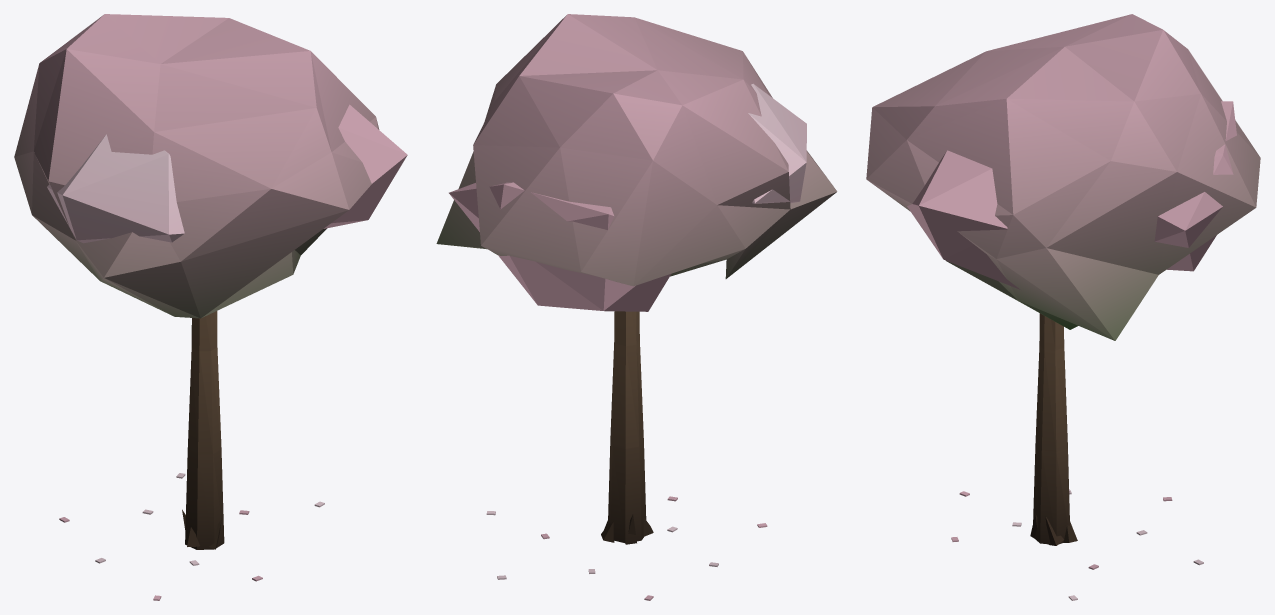
Rendered from flowering_tree.glb.
3 views of the same model, side by side, from view 1: azimuth 30°, elevation 25°; view 2: azimuth 150°, elevation 25°; view 3: azimuth 270°, elevation 25° (orthographic). The views are drawn at different scales.
Parts seen in each view (by area): view 1: flowering_tree; view 2: flowering_tree; view 3: flowering_tree.
Boxes of the visible parts, x1,y1,x2,y2 form: flowering_tree: [14, 14, 407, 600]; flowering_tree: [436, 14, 837, 600]; flowering_tree: [866, 14, 1260, 600].
Size of the model in its own units: 2.93 by 4.36 by 3.18.
